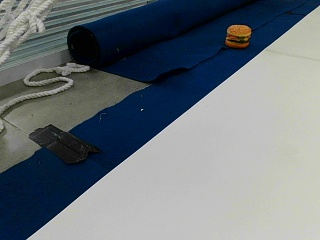burger: (225, 23, 251, 47)
